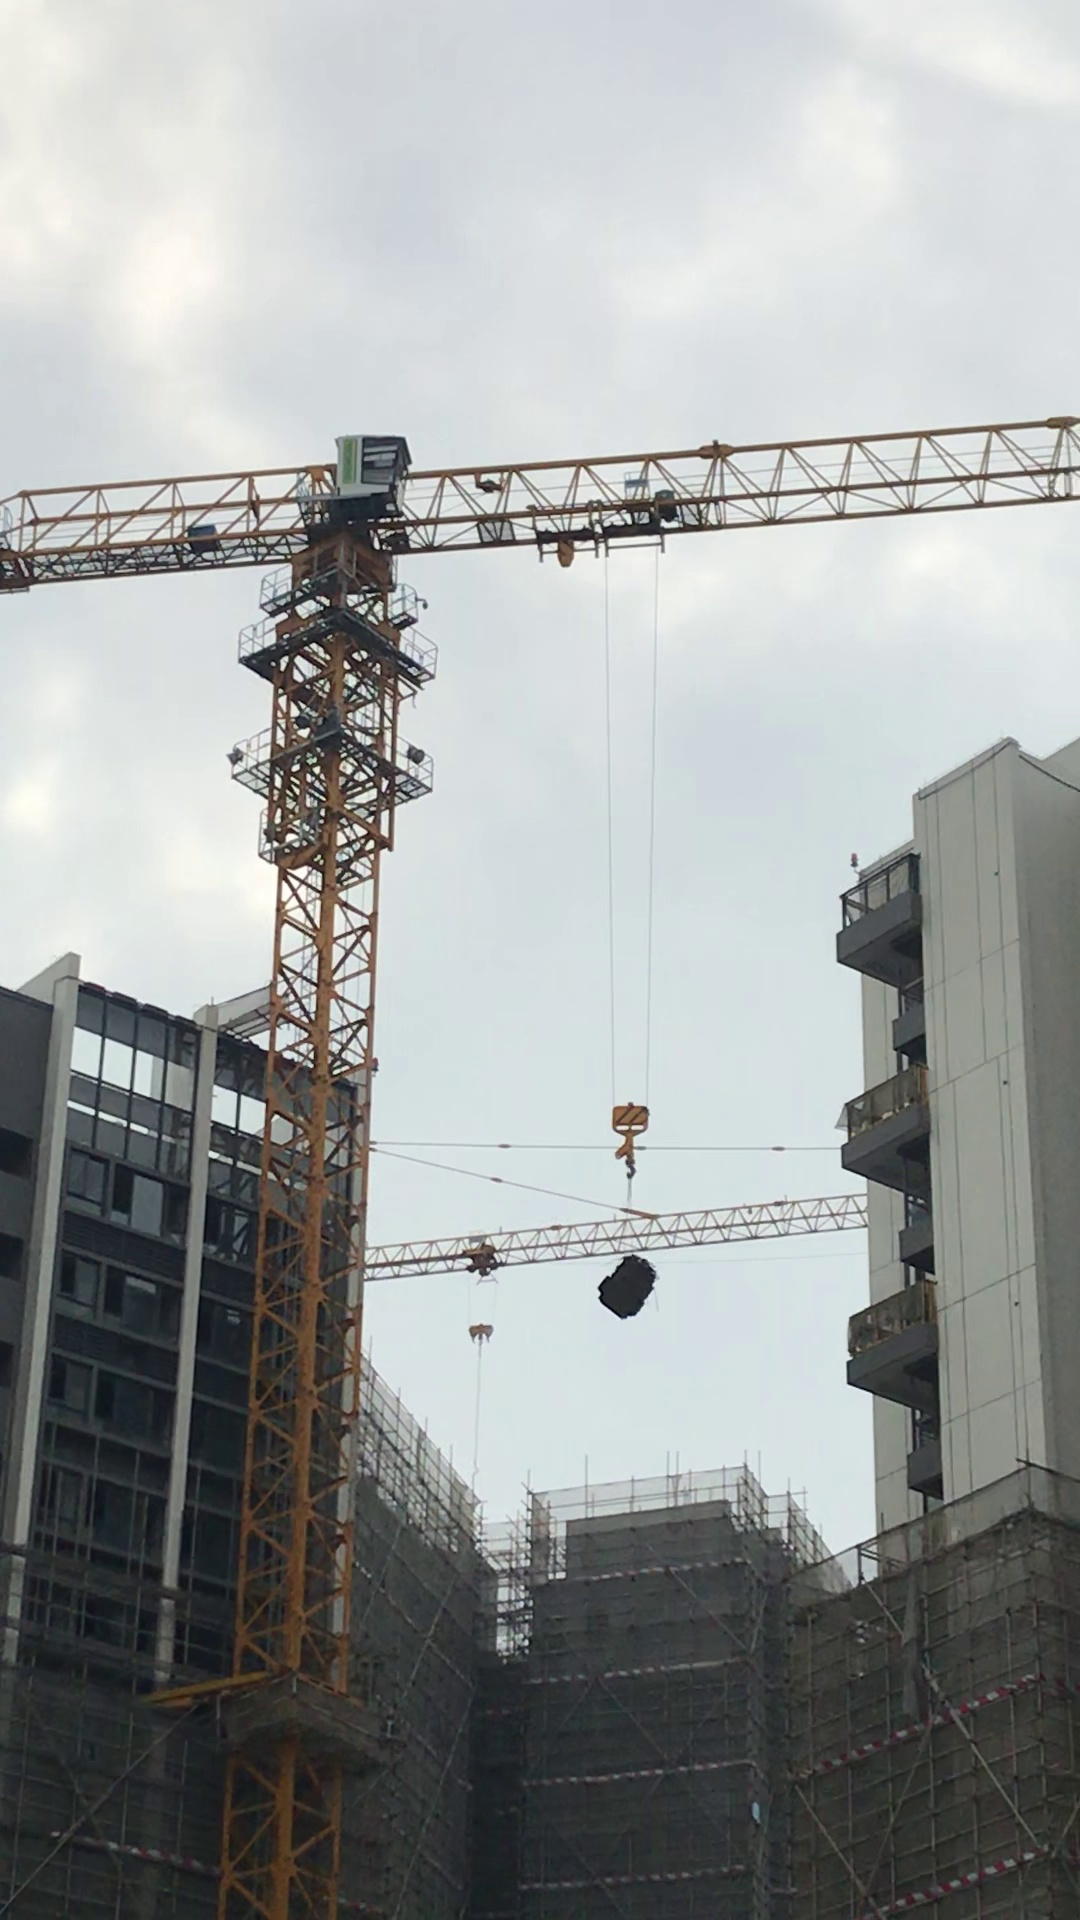hook: (604, 1091, 655, 1184), (458, 1309, 505, 1352)
